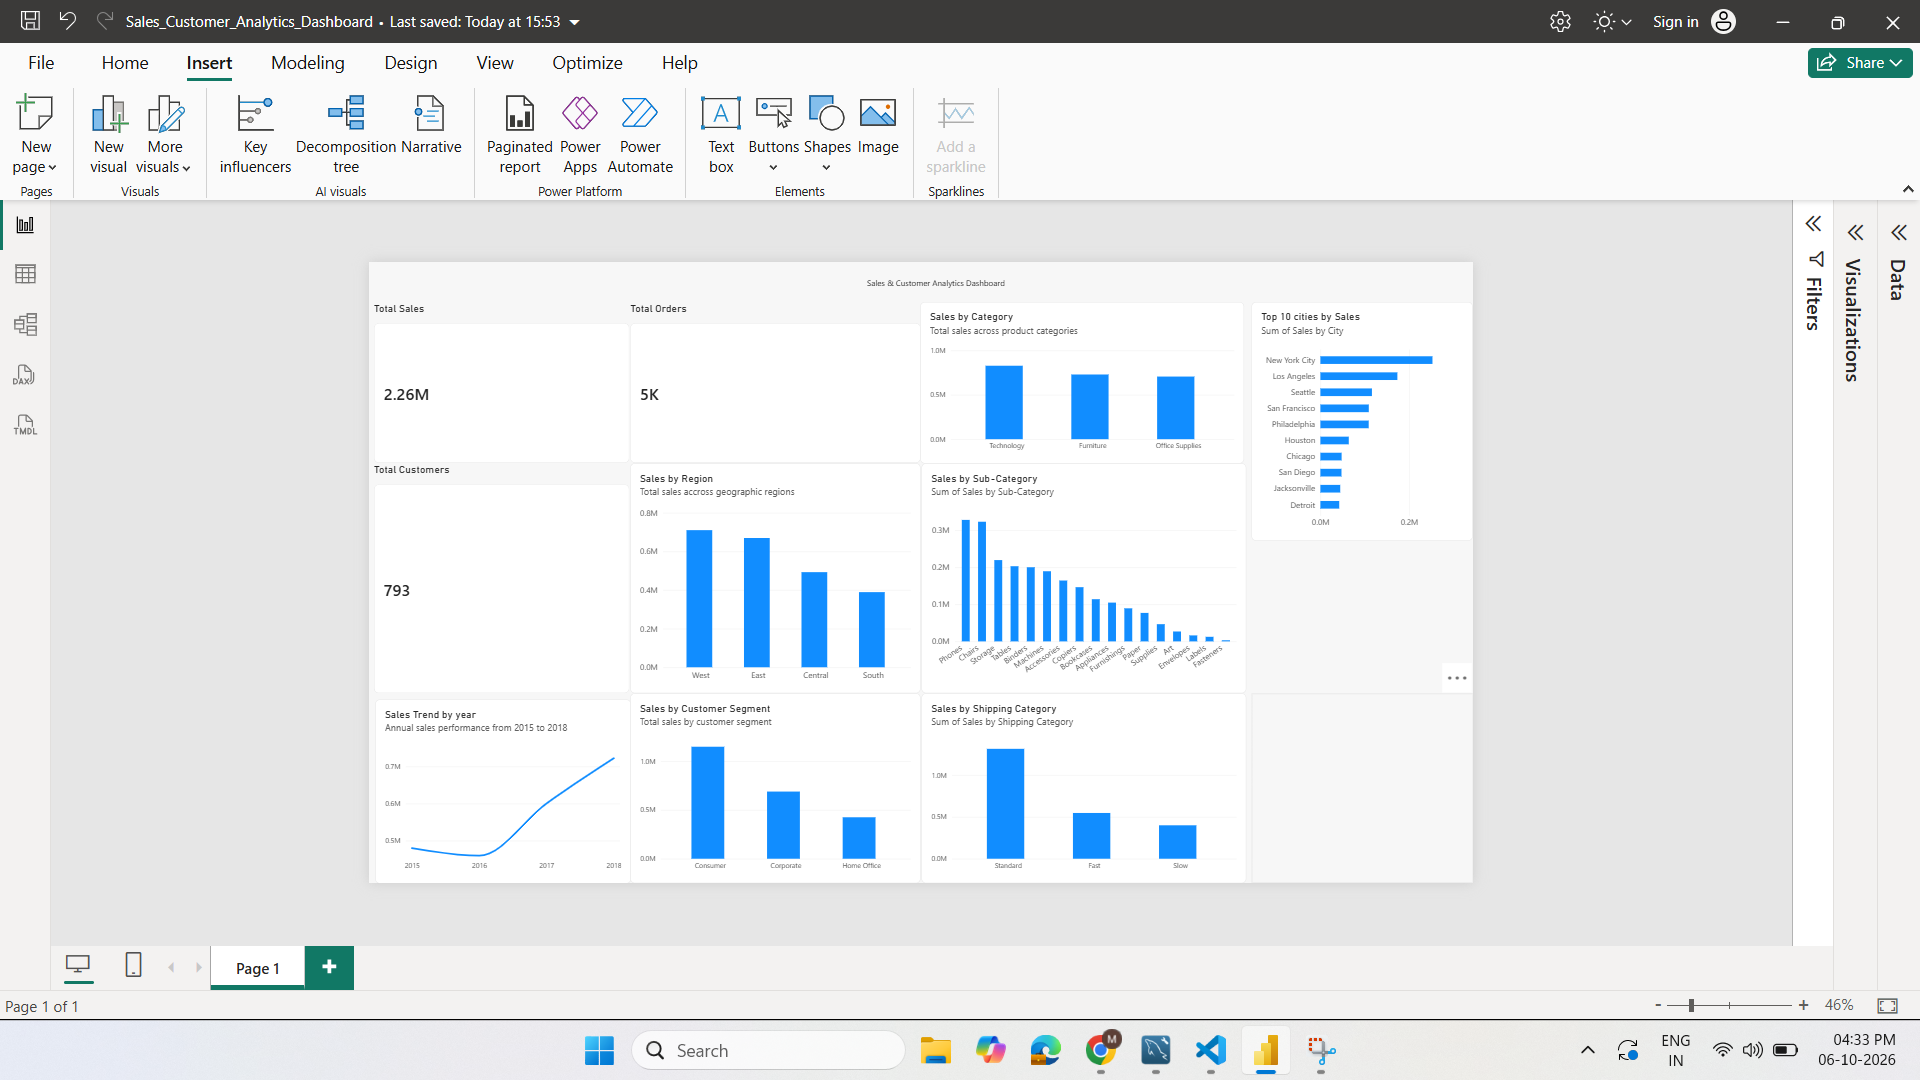

The page's visual inventory and layout, read from the dashboard file:
{"tool":"powerbi","page":{"name":"Page 1","canvas":[1920,1080],"ordinal":0},"visuals":[{"type":"cardVisual","title":"Total Sales","fields":{"Data":["Sum(Superstore_Sales_Cleaned.Sales)","Sum(Superstore_Sales_Cleaned.Sales)"]},"box":[9.6,69.2,444.2,280.8],"z":0},{"type":"cardVisual","title":"Total Orders","fields":{"Data":["Superstore_Sales_Cleaned.Total Orders"]},"box":[453.8,69.2,505.8,280.8],"z":1000},{"type":"cardVisual","title":"Total Customers","fields":{"Data":["Superstore_Sales_Cleaned.Total Customers"]},"box":[9.6,350,444.2,400],"z":2000},{"type":"clusteredColumnChart","title":"Sales by Category","fields":{"Category":["Superstore_Sales_Cleaned.Category"],"Y":["Sum(Superstore_Sales_Cleaned.Sales)"]},"box":[959.6,69.2,563.5,280.8],"z":3000},{"type":"clusteredColumnChart","title":"Sales by Region","fields":{"Category":["Superstore_Sales_Cleaned.Region"],"Y":["Sum(Superstore_Sales_Cleaned.Sales)"]},"box":[455,350,505,400],"z":4000},{"type":"lineChart","title":" Sales Trend by year","fields":{"Category":["Superstore_Sales_Cleaned.Order Year"],"Y":["Sum(Superstore_Sales_Cleaned.Sales)"]},"box":[10,760,445,320],"z":5000},{"type":"clusteredColumnChart","title":"Sales by Customer Segment","fields":{"Category":["Superstore_Sales_Cleaned.Segment"],"Y":["Sum(Superstore_Sales_Cleaned.Sales)"]},"box":[455,750,505,330],"z":6000},{"type":"clusteredBarChart","title":"Top 10 cities by Sales","fields":{"Category":["Superstore_Sales_Cleaned.City"],"Y":["Sum(Superstore_Sales_Cleaned.Sales)"]},"box":[1534.6,69.2,384.6,415.4],"z":7000},{"type":"clusteredColumnChart","title":"Sales by Sub-Category","fields":{"Category":["Superstore_Sales_Cleaned.Sub-Category"],"Y":["Sum(Superstore_Sales_Cleaned.Sales)"]},"box":[960,350,565,400],"z":8000},{"type":"clusteredColumnChart","title":"Sales by Shipping Category","fields":{"Category":["Superstore_Sales_Cleaned.Shipping Category"],"Y":["Sum(Superstore_Sales_Cleaned.Sales)"]},"box":[960,750,565,330],"z":9000},{"type":"textbox","box":[1534,350,386,400],"z":10000},{"type":"textbox","box":[1534,750,386,330],"z":11000},{"type":"textbox","box":[536.5,26.9,898.1,84.6],"z":12000}]}

Visuals, with their boxes on the page's 1920x1080 design canvas (x1, y1, x2, y2). These are canvas units, not pixel positions in the 1920x1080 screenshot, which may show the page scaled, cropped or inside an application window:
"Total Sales" cardVisual: pyautogui.locateOnScreen(10, 69, 454, 350)
"Total Orders" cardVisual: pyautogui.locateOnScreen(454, 69, 960, 350)
"Total Customers" cardVisual: pyautogui.locateOnScreen(10, 350, 454, 750)
"Sales by Category" clusteredColumnChart: pyautogui.locateOnScreen(960, 69, 1523, 350)
"Sales by Region" clusteredColumnChart: pyautogui.locateOnScreen(455, 350, 960, 750)
" Sales Trend by year" lineChart: pyautogui.locateOnScreen(10, 760, 455, 1080)
"Sales by Customer Segment" clusteredColumnChart: pyautogui.locateOnScreen(455, 750, 960, 1080)
"Top 10 cities by Sales" clusteredBarChart: pyautogui.locateOnScreen(1535, 69, 1919, 485)
"Sales by Sub-Category" clusteredColumnChart: pyautogui.locateOnScreen(960, 350, 1525, 750)
"Sales by Shipping Category" clusteredColumnChart: pyautogui.locateOnScreen(960, 750, 1525, 1080)
textbox: pyautogui.locateOnScreen(1534, 350, 1920, 750)
textbox: pyautogui.locateOnScreen(1534, 750, 1920, 1080)
textbox: pyautogui.locateOnScreen(536, 27, 1435, 112)
